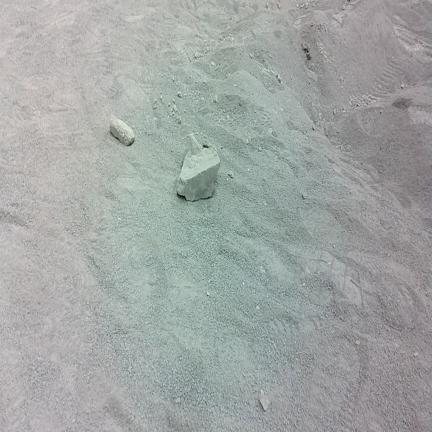Rock: (177, 134, 220, 200), (110, 116, 134, 145), (260, 390, 270, 410)
